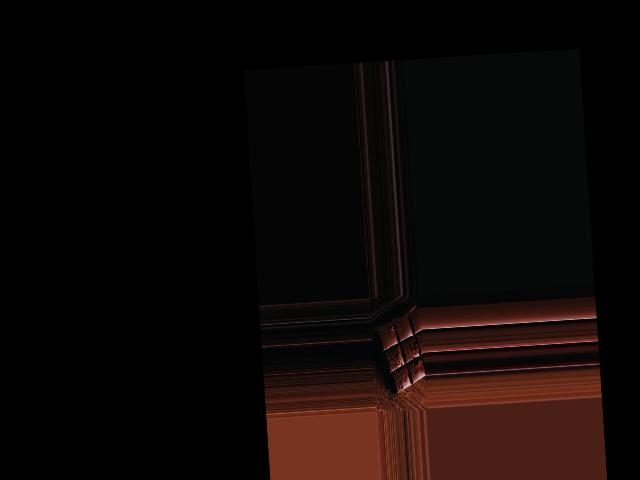chocolate: (373, 307, 425, 398)
